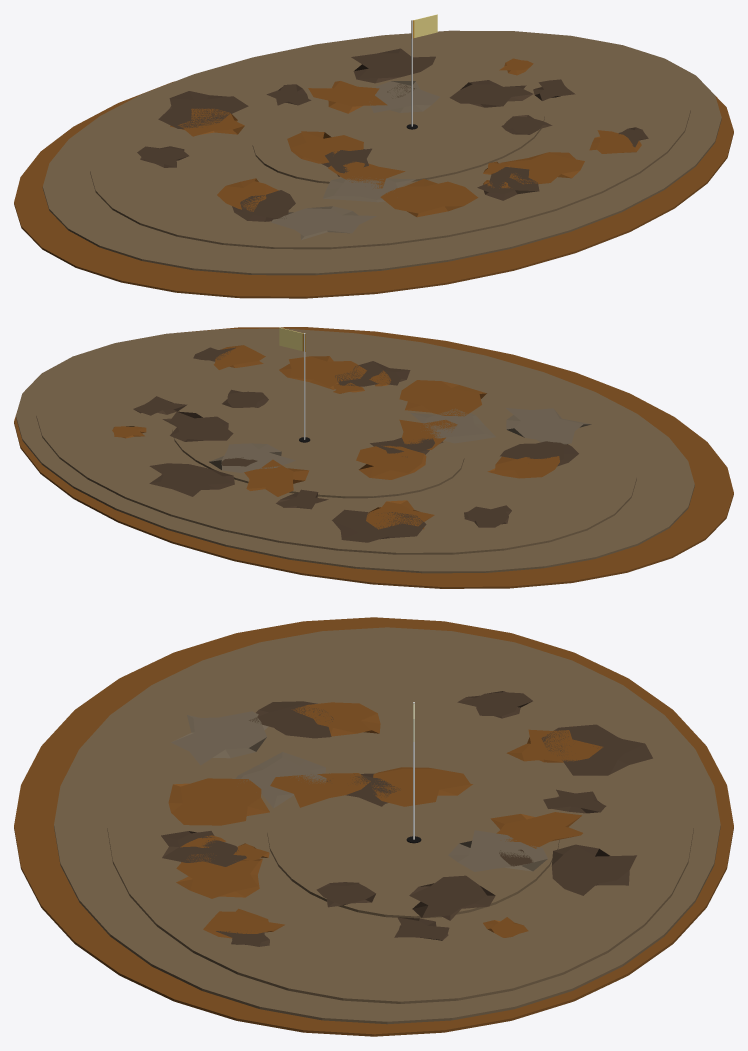
The model's file is golf_flag_green.glb.
3 views of the same model, one above another, from view 1: azimuth 30°, elevation 25°; view 2: azimuth 150°, elevation 25°; view 3: azimuth 270°, elevation 25° (orthographic). The views are drawn at different scales.
Parts seen in each view (by area): view 1: golf_flag_green; view 2: golf_flag_green; view 3: golf_flag_green.
Part boxes in pixels (left/top/right/bottom): golf_flag_green: left=14, top=14, right=733, bottom=298; golf_flag_green: left=14, top=327, right=733, bottom=588; golf_flag_green: left=14, top=617, right=733, bottom=1036.
Bounding box in the file's own units: 14.8 × 2.64 × 10.8.
